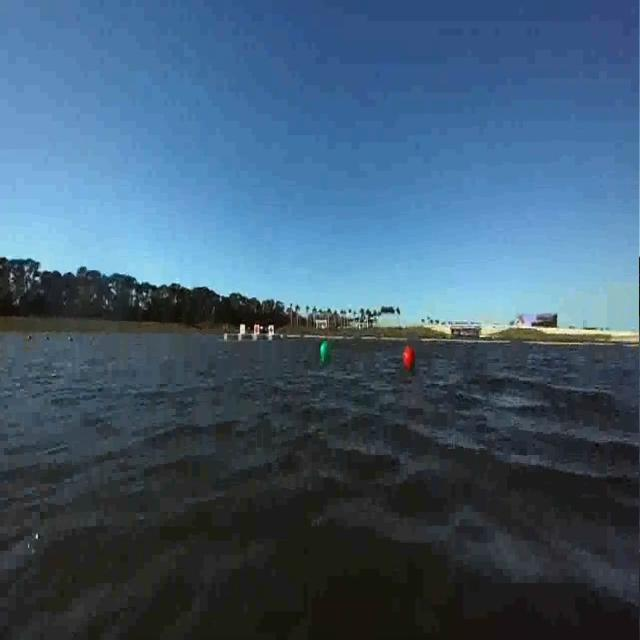green-buoy: (322, 342, 333, 362)
red-buoy: (405, 346, 417, 372)
